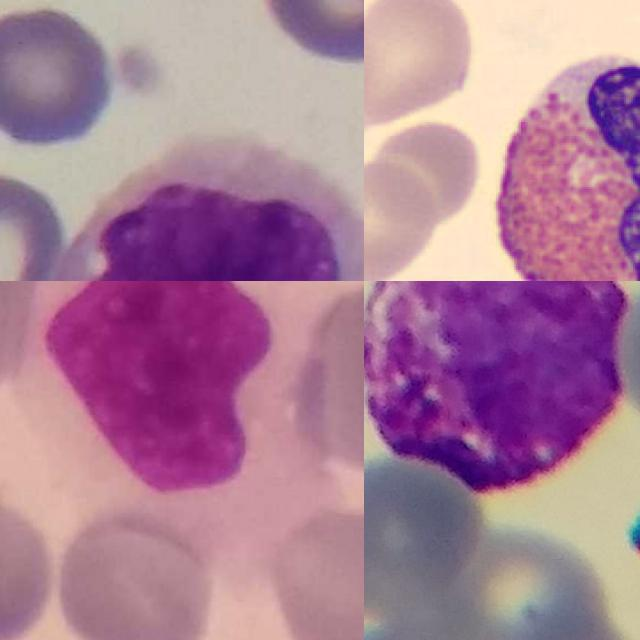Basophil: (364, 281, 631, 494)
Eosinophil: (474, 37, 640, 281)
Monocyte: (20, 281, 318, 534), (48, 132, 364, 281)
RBC: (364, 0, 480, 129), (364, 155, 443, 281)
